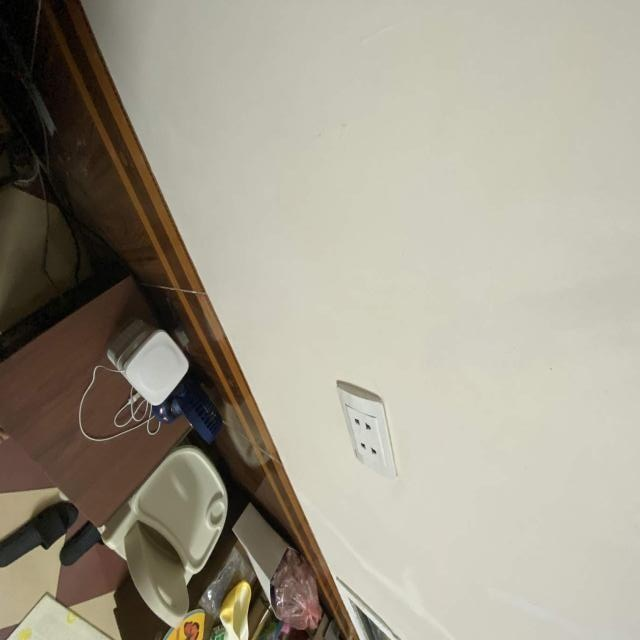outlet: (337, 380, 399, 480)
